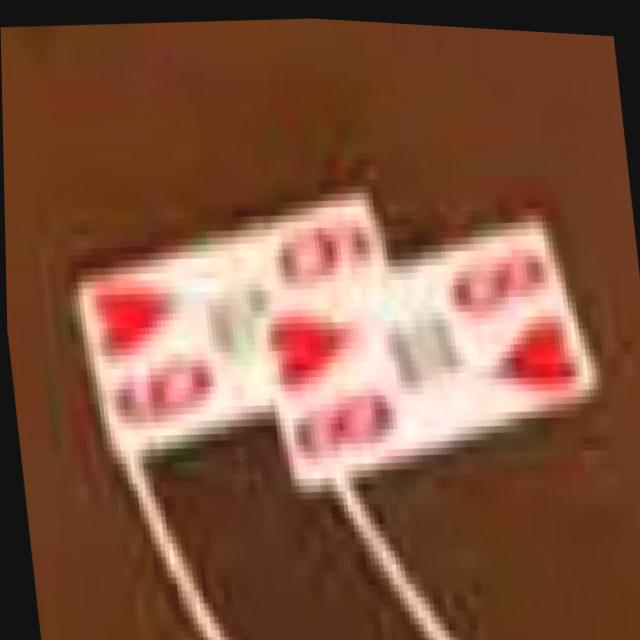Card-6: (81, 192, 383, 449)
Card-8: (256, 212, 593, 481)
